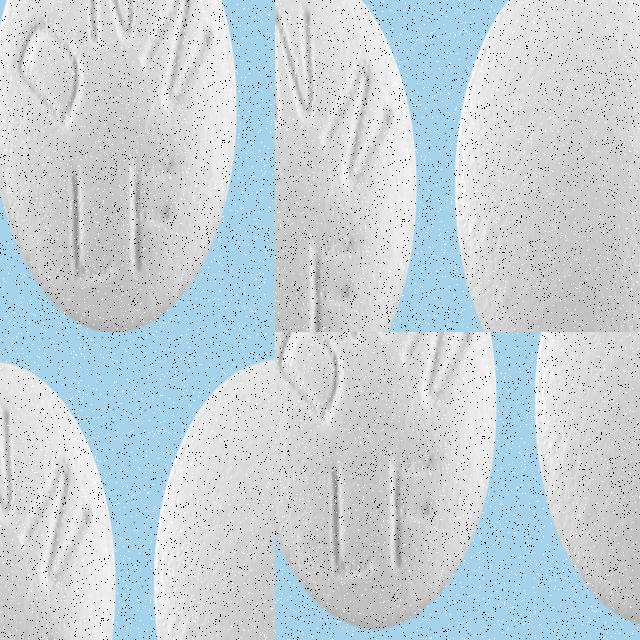Levoflcin: (275, 332, 499, 631), (534, 332, 640, 627)
New Clato Tab-500mg: (443, 0, 640, 188), (275, 164, 462, 332)
Vemlidy Tab: (0, 130, 275, 330)
